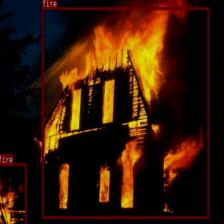fire: (41, 7, 209, 218), (0, 163, 26, 224)
